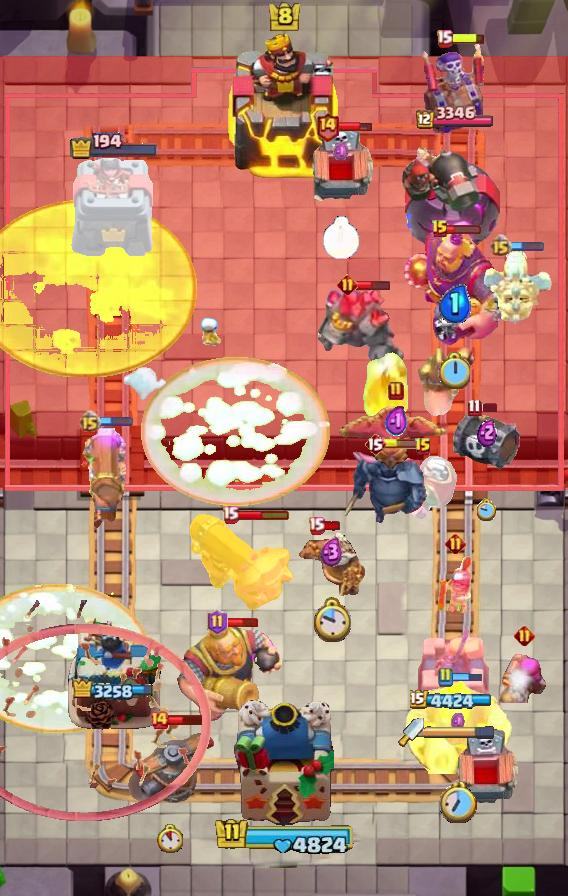bar: (414, 623, 492, 731)
bat: (124, 367, 168, 405)
battle-healer: (81, 427, 127, 531)
cannoneer-tower: (314, 286, 404, 374)
clock: (210, 816, 358, 858)
dark-prince: (123, 723, 217, 805)
electro-spirit: (438, 285, 471, 324), (384, 405, 407, 439), (320, 536, 343, 567), (477, 418, 497, 447), (334, 141, 351, 163), (451, 713, 465, 732)
elixir: (312, 596, 351, 643), (322, 216, 360, 260), (439, 781, 477, 822), (438, 351, 470, 388), (157, 824, 183, 853), (477, 498, 497, 521)
elixir-collector: (296, 529, 366, 603)
elixir-golem-mid: (306, 124, 376, 210), (451, 728, 521, 814)
emote: (238, 509, 291, 521), (337, 119, 373, 133), (168, 713, 205, 726), (450, 32, 486, 45), (509, 240, 545, 252), (357, 279, 392, 291), (446, 224, 482, 235), (98, 416, 134, 427), (225, 616, 259, 627), (383, 439, 419, 449), (451, 672, 483, 683), (322, 520, 342, 532), (479, 402, 499, 413)
freeze: (417, 347, 475, 427)
furnace: (186, 513, 296, 619)
giant-skeleton: (174, 622, 287, 726), (403, 680, 513, 774)
golemite: (345, 448, 431, 524)
heal-spirit: (199, 317, 229, 349)
king-tower: (226, 33, 342, 181), (234, 700, 334, 826)
king-tower-bar: (424, 725, 496, 739)
lightning: (402, 232, 506, 350)
mini-pekka: (480, 251, 556, 331)
mother-witch: (339, 403, 453, 471)
phoenix-big: (140, 357, 330, 507), (1, 583, 152, 733)
phoenix-egg: (0, 200, 196, 377)
princess: (436, 556, 474, 618)
queen-tower: (65, 617, 163, 731), (68, 158, 159, 256)
royal-recruit-evolution: (450, 410, 524, 474)
selected: (68, 132, 159, 160), (72, 677, 156, 702), (413, 105, 493, 130), (410, 690, 496, 712)
skeleton-barrel: (1, 601, 212, 824)
skeleton-king: (387, 451, 459, 523)
skeleton-king-bar: (422, 39, 488, 133)
text: (316, 111, 341, 141), (79, 410, 102, 434), (208, 609, 229, 635), (489, 235, 512, 258), (364, 432, 386, 456), (337, 273, 359, 294), (446, 533, 467, 555), (513, 625, 534, 646), (149, 710, 169, 730), (431, 219, 449, 239), (414, 437, 432, 457), (435, 29, 453, 48), (307, 517, 325, 536), (222, 505, 239, 524), (388, 381, 404, 401), (437, 667, 453, 687), (467, 399, 481, 417)
tombstone: (499, 649, 549, 703)
tower-bar: (402, 136, 504, 256)
valkyrie: (360, 351, 414, 427)
